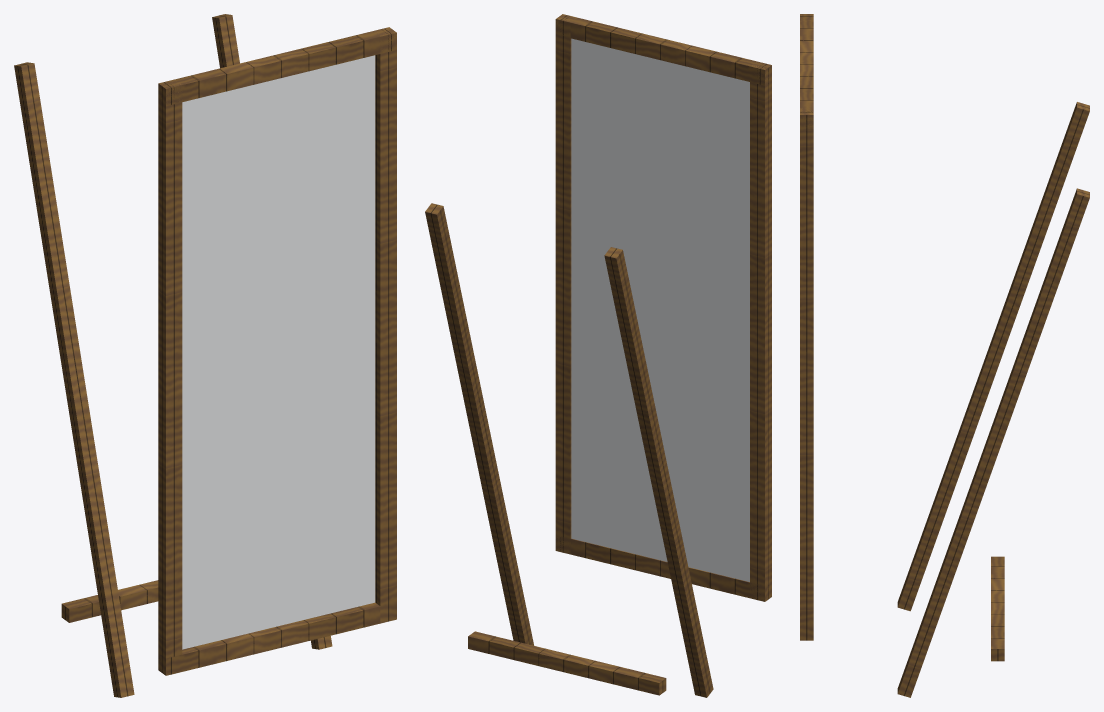
Rendered from mirror_stand.glb.
3 views of the same model, side by side, from view 1: azimuth 30°, elevation 25°; view 2: azimuth 150°, elevation 25°; view 3: azimuth 270°, elevation 25° (orthographic). The views are drawn at different scales.
Parts seen in each view (by area): view 1: Mirror; view 2: Mirror; view 3: Mirror.
Boxes of the visible parts, x1,y1,x2,y2 form: Mirror: (14,14,396,697); Mirror: (425,14,771,697); Mirror: (800,14,1089,697).
Bounding box in the file's own units: 0.7 × 1.9 × 0.8497.
2 materials, 1 textured.
